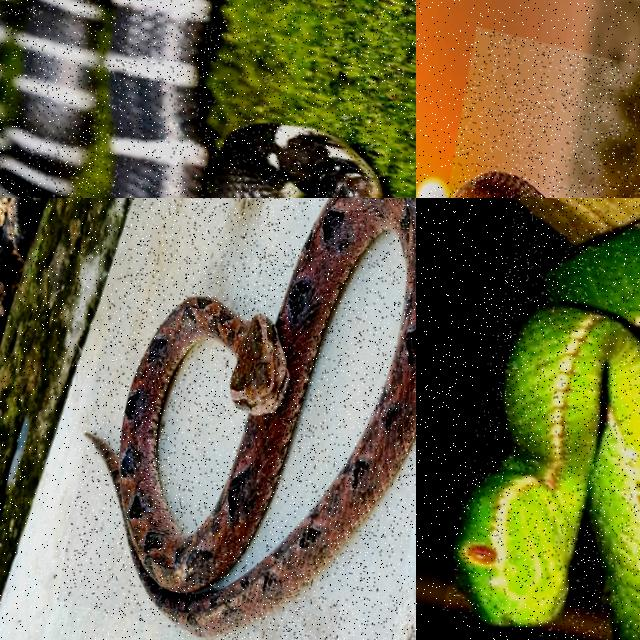Bungarus candidus: (0, 0, 212, 197)
Calloselasma rhodostoma: (88, 198, 415, 636)
Ophiophagus hannah: (453, 171, 544, 197)
Trimeresurus: (456, 223, 639, 639)
snake: (88, 198, 415, 636), (456, 223, 639, 639), (0, 0, 212, 197), (453, 171, 544, 197)
